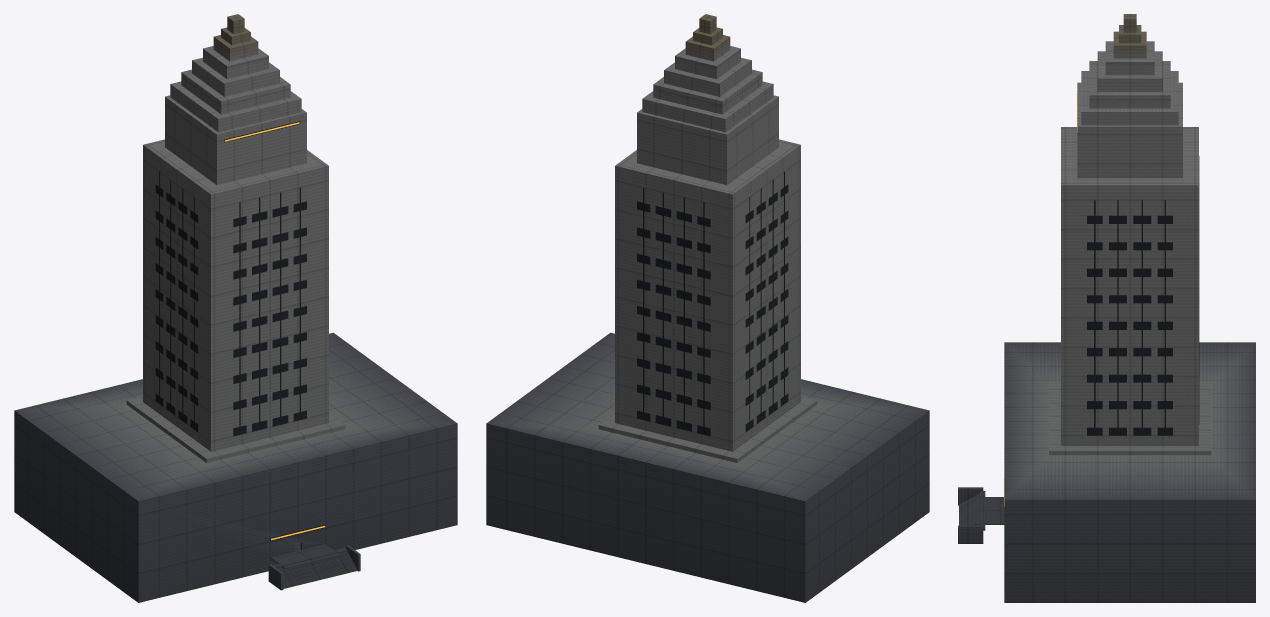
File: hall-medium.glb
3 renders of one model, left to right at view 1: azimuth 30°, elevation 25°; view 2: azimuth 150°, elevation 25°; view 3: azimuth 270°, elevation 25°, orthographic.
Parts seen in each view (by area): view 1: solid-0; view 2: solid-0; view 3: solid-0, glass.149, glass.109, glass.069, glass.029.
Boxes of the visible parts, box(x1,y1,x2,y2) form: solid-0: box(14, 14, 457, 602); solid-0: box(486, 14, 929, 602); solid-0: box(958, 14, 1255, 602); glass.149: box(1094, 200, 1095, 435); glass.109: box(1117, 200, 1118, 435); glass.069: box(1141, 200, 1142, 435); glass.029: box(1164, 200, 1165, 435).
Size of the model in its own units: 92 by 138 by 73.4.
4 materials, 1 textured.
